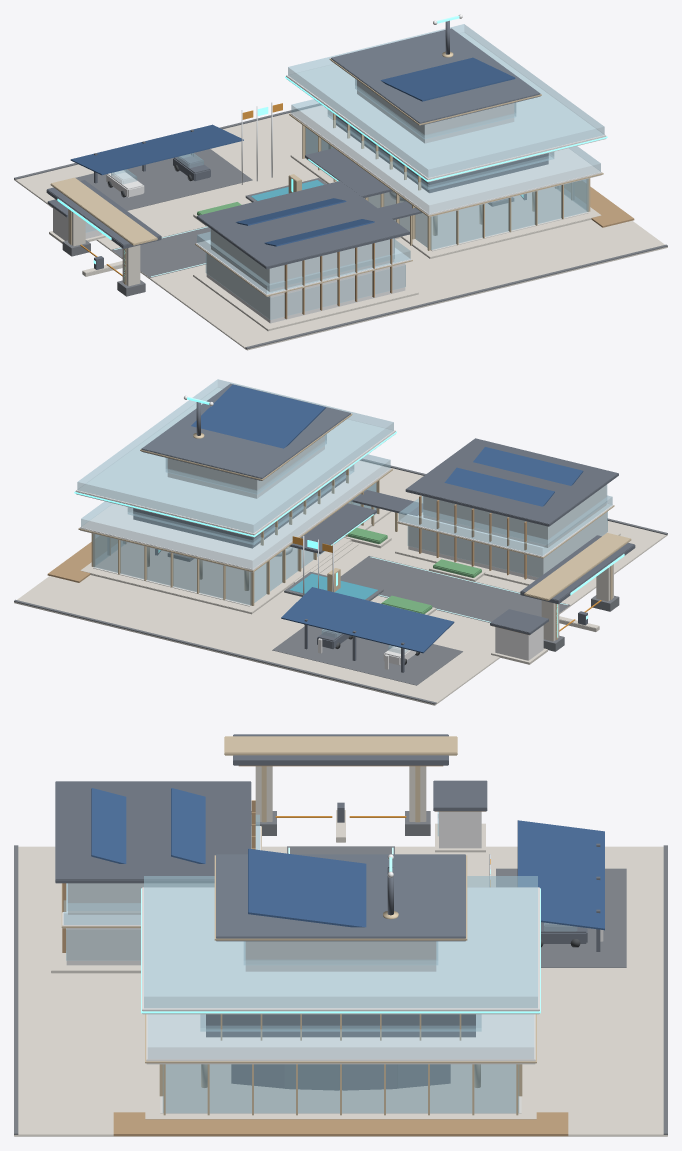
File: a_civic_command.glb
3 renders of one model, top to bottom at view 1: azimuth 30°, elevation 25°; view 2: azimuth 150°, elevation 25°; view 3: azimuth 270°, elevation 25°, orthographic. The views are drawn at different scales.
Visible parts, largest first — view 1: A_Plaza_Base, A_Cutaway_Cmd_3F_Balustrade, A_Cutaway_Roof2F, A_Dorm_Roof, A_Cutaway_Cmd_2F_Balustrade, A_Cutaway_TopRoof, A_Cutaway_Deck2F, A_Cmd_1F_GlassS, A_Dorm_Core1F, A_Cmd_Terrazzo, A_EV_Pad, A_Dorm_Glass1F (+30 smaller); view 2: A_Plaza_Base, A_Cutaway_Cmd_3F_Balustrade, A_Cutaway_Roof2F, A_Cutaway_Cmd_2F_Balustrade, A_Cutaway_Deck2F, A_Dorm_Roof, A_Cutaway_TopRoof, A_Plaza_Drive, A_EV_Canopy, A_Cmd_Terrazzo, A_Cmd_1F_GlassN, A_Cutaway_SolarPV (+33 smaller); view 3: A_Plaza_Base, A_Cutaway_Cmd_3F_Balustrade, A_Cutaway_Roof2F, A_Cmd_1F_GlassE, A_Dorm_Roof, A_Cutaway_Cmd_2F_Balustrade, A_Cutaway_TopRoof, A_Cutaway_Deck2F, A_Cmd_Terrazzo, A_Lake_Deck, A_EV_Canopy, A_Cutaway_SolarPV (+32 smaller).
Part boxes in pixels (left/top/right/bottom): A_Plaza_Base: left=14, top=107, right=667, bottom=350; A_Cutaway_Cmd_3F_Balustrade: left=288, top=24, right=604, bottom=177; A_Cutaway_Roof2F: left=286, top=32, right=606, bottom=182; A_Dorm_Roof: left=196, top=181, right=409, bottom=269; A_Cutaway_Cmd_2F_Balustrade: left=291, top=99, right=600, bottom=213; A_Cutaway_TopRoof: left=331, top=28, right=540, bottom=125; A_Cutaway_Deck2F: left=290, top=105, right=602, bottom=217; A_Cmd_1F_GlassS: left=431, top=179, right=588, bottom=249; A_Dorm_Core1F: left=206, top=254, right=405, bottom=323; A_Cmd_Terrazzo: left=306, top=158, right=588, bottom=251; A_EV_Pad: left=75, top=149, right=252, bottom=210; A_Dorm_Glass1F: left=205, top=253, right=405, bottom=319; A_Plaza_Base: left=14, top=461, right=667, bottom=705; A_Cutaway_Cmd_3F_Balustrade: left=77, top=379, right=393, bottom=533; A_Cutaway_Roof2F: left=75, top=387, right=395, bottom=537; A_Cutaway_Cmd_2F_Balustrade: left=81, top=454, right=390, bottom=568; A_Cutaway_Deck2F: left=80, top=461, right=391, bottom=572; A_Dorm_Roof: left=405, top=438, right=618, bottom=526; A_Cutaway_TopRoof: left=141, top=383, right=350, bottom=480; A_Plaza_Drive: left=340, top=556, right=570, bottom=622; A_EV_Canopy: left=281, top=587, right=454, bottom=653; A_Cmd_Terrazzo: left=93, top=517, right=370, bottom=606; A_Cmd_1F_GlassN: left=93, top=534, right=250, bottom=605; A_Cutaway_SolarPV: left=191, top=384, right=325, bottom=448; A_Plaza_Base: left=14, top=846, right=667, bottom=1136; A_Cutaway_Cmd_3F_Balustrade: left=144, top=876, right=537, bottom=1008; A_Cutaway_Roof2F: left=142, top=887, right=539, bottom=1014; A_Cmd_1F_GlassE: left=163, top=1064, right=518, bottom=1113; A_Dorm_Roof: left=55, top=781, right=251, bottom=883; A_Cutaway_Cmd_2F_Balustrade: left=148, top=1014, right=533, bottom=1058; A_Cutaway_TopRoof: left=216, top=854, right=465, bottom=941; A_Cutaway_Deck2F: left=146, top=1014, right=535, bottom=1064; A_Cmd_Terrazzo: left=160, top=1064, right=521, bottom=1113; A_Lake_Deck: left=113, top=1112, right=568, bottom=1136; A_EV_Canopy: left=517, top=820, right=604, bottom=930; A_Cutaway_SolarPV: left=248, top=848, right=366, bottom=927.
Bounding box in the file's own units: 53.5 × 16.67 × 46.
